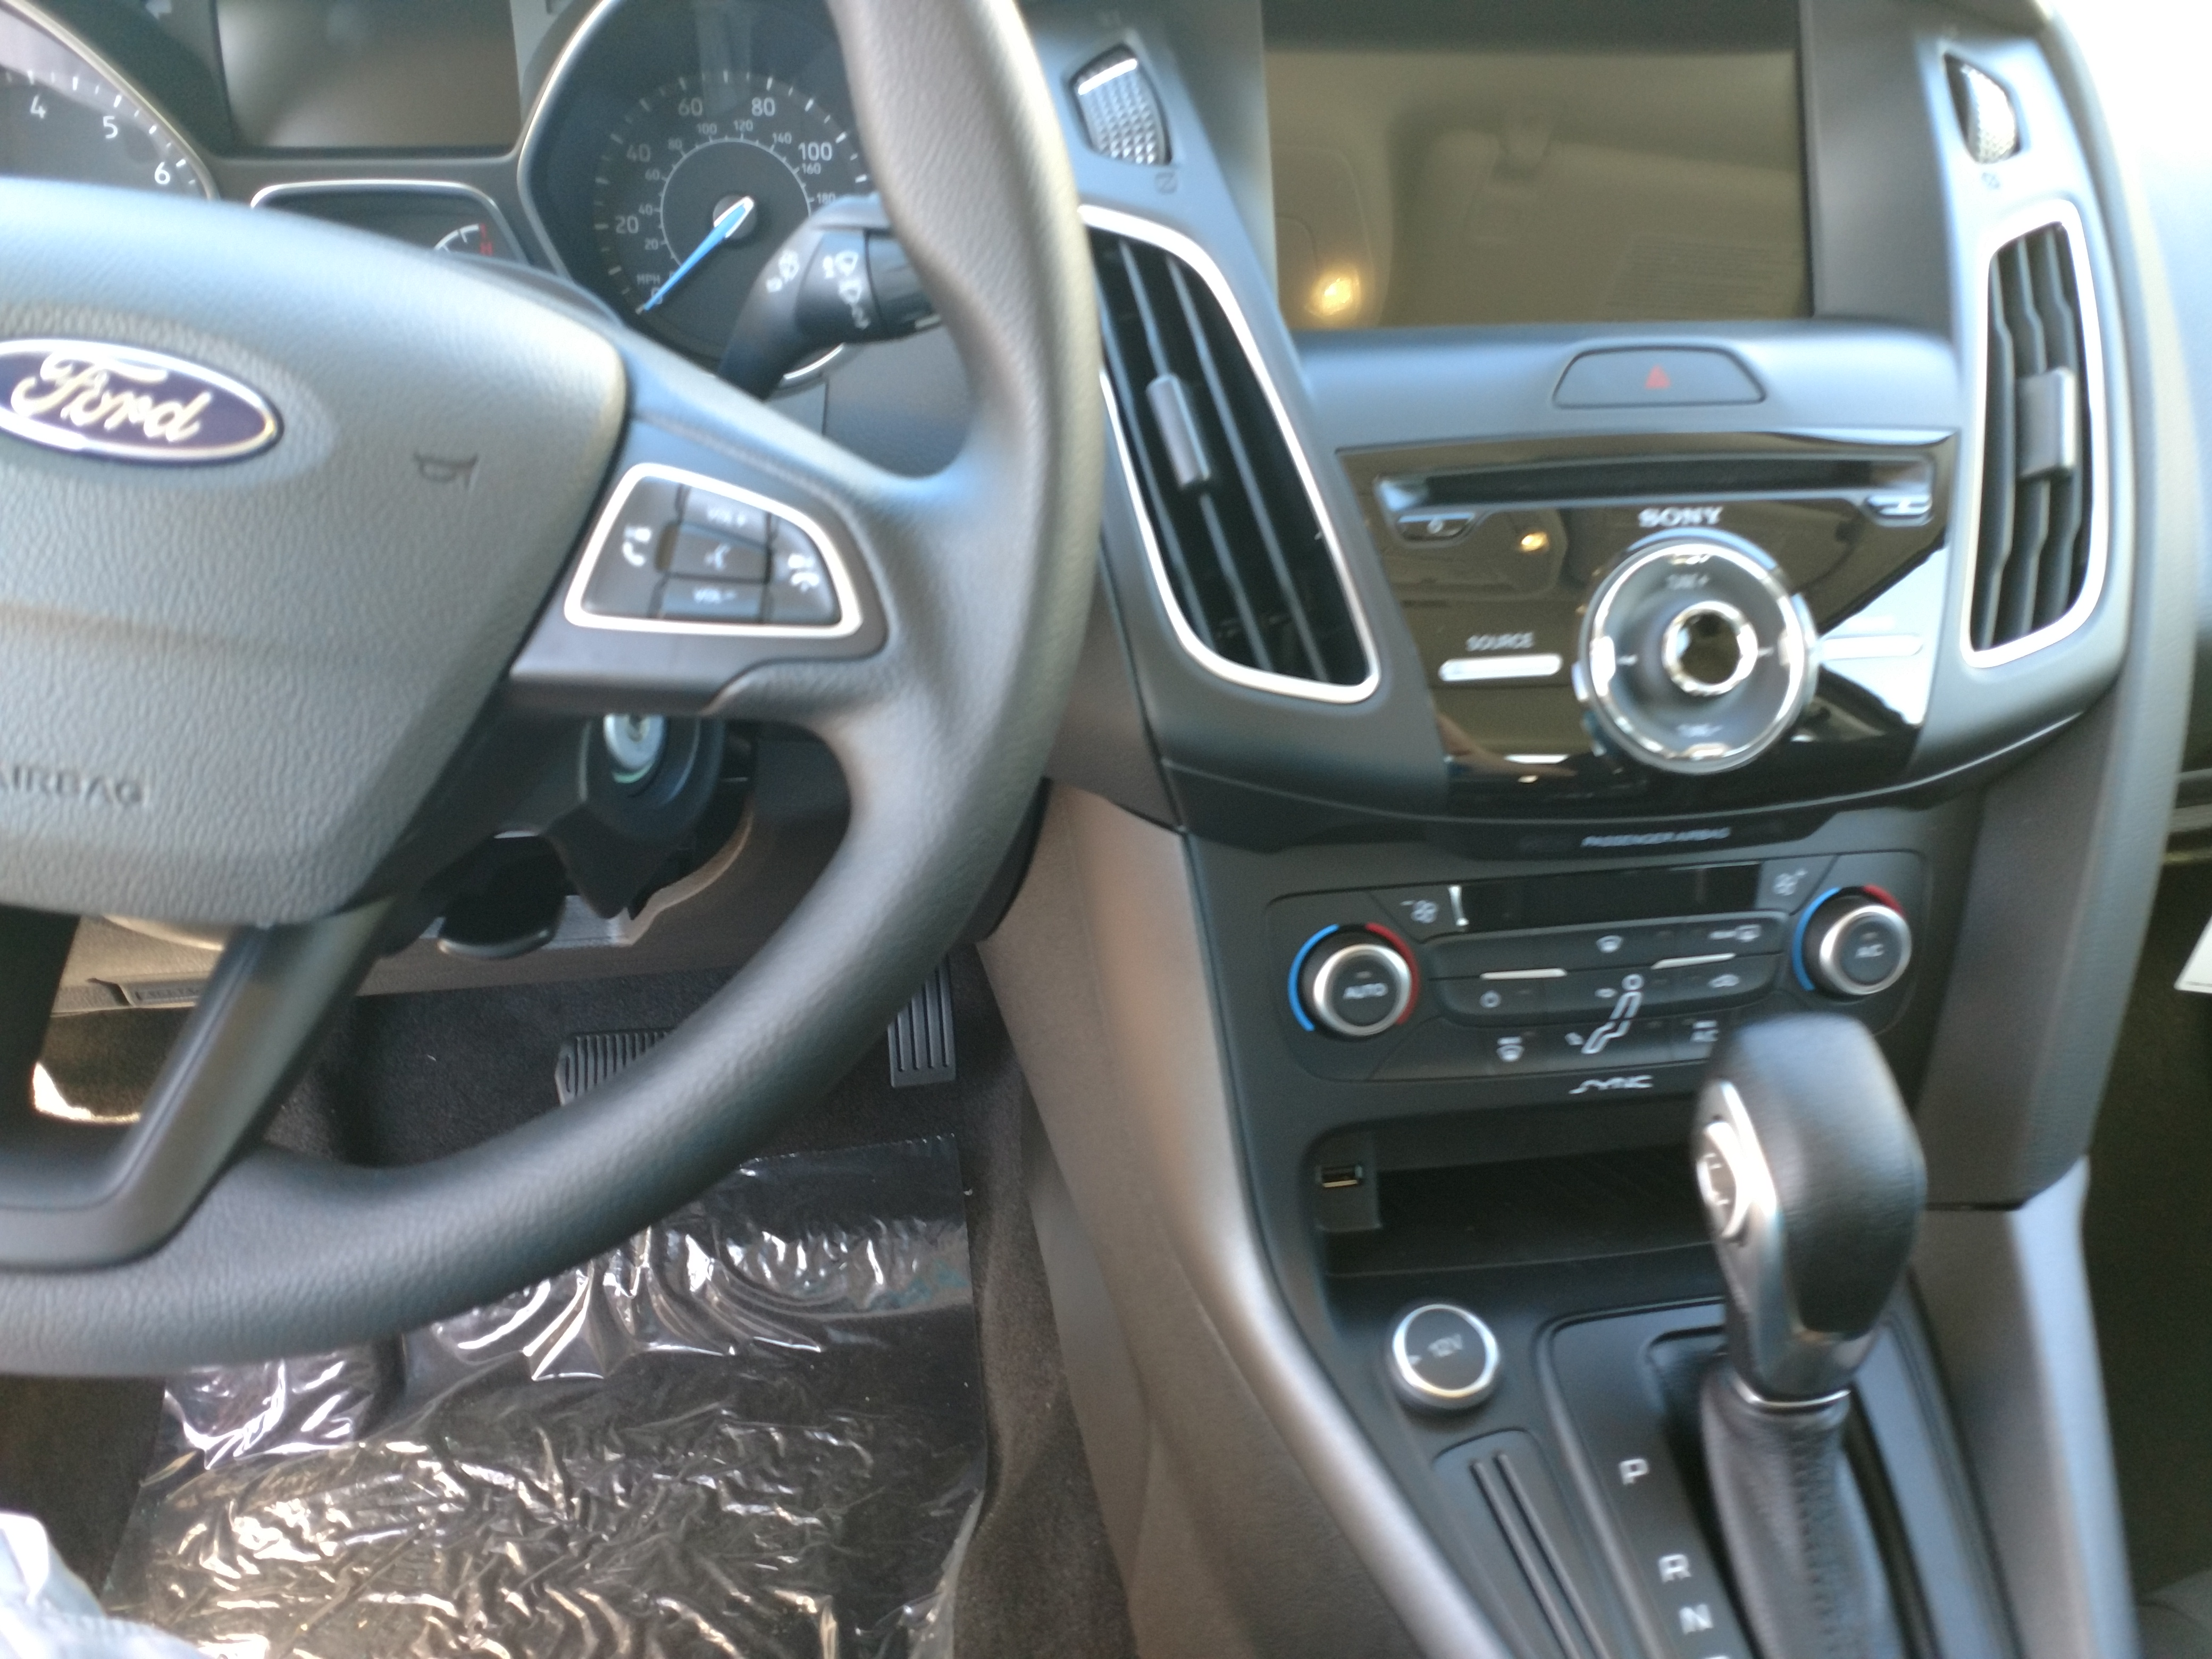Ford: (0, 317, 293, 490)
